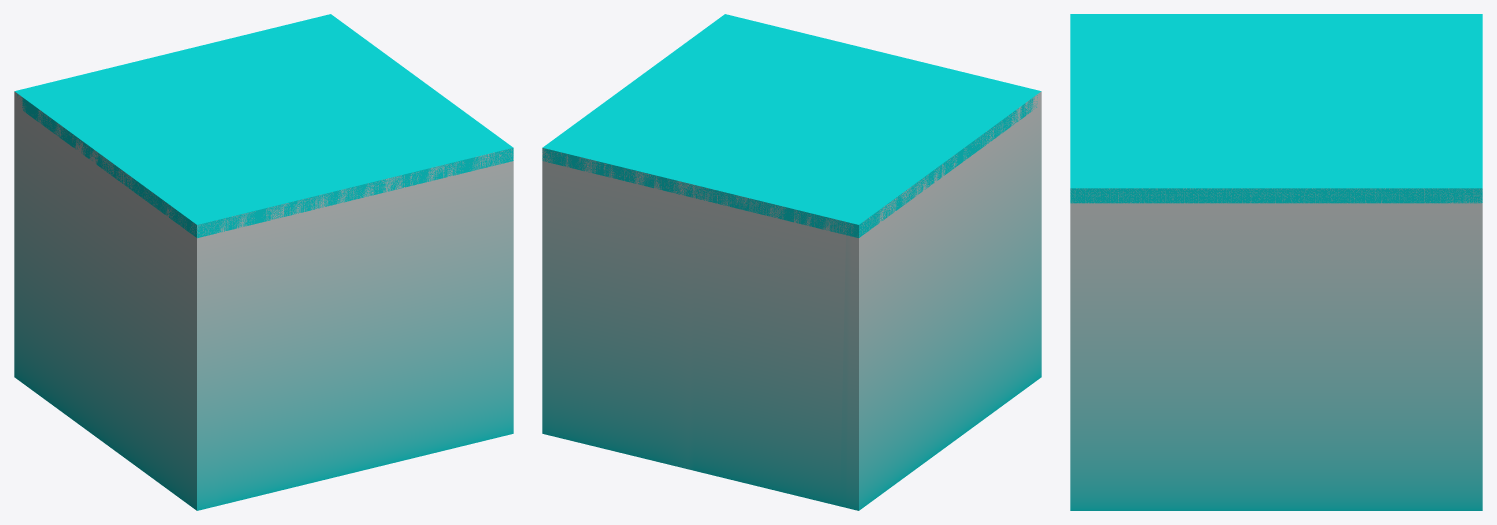
File: Voulume02.fbx
3 views of the same model, side by side, from view 1: azimuth 30°, elevation 25°; view 2: azimuth 150°, elevation 25°; view 3: azimuth 270°, elevation 25° (orthographic). The views are drawn at different scales.
Visible parts, largest first — view 1: polySurface1; view 2: polySurface1; view 3: polySurface1.
Boxes of the visible parts, <box> form: polySurface1: <box>14,14,513,510</box>; polySurface1: <box>542,14,1041,510</box>; polySurface1: <box>1070,14,1482,510</box>.
Bounding box in the file's own units: 500 × 500 × 432.
